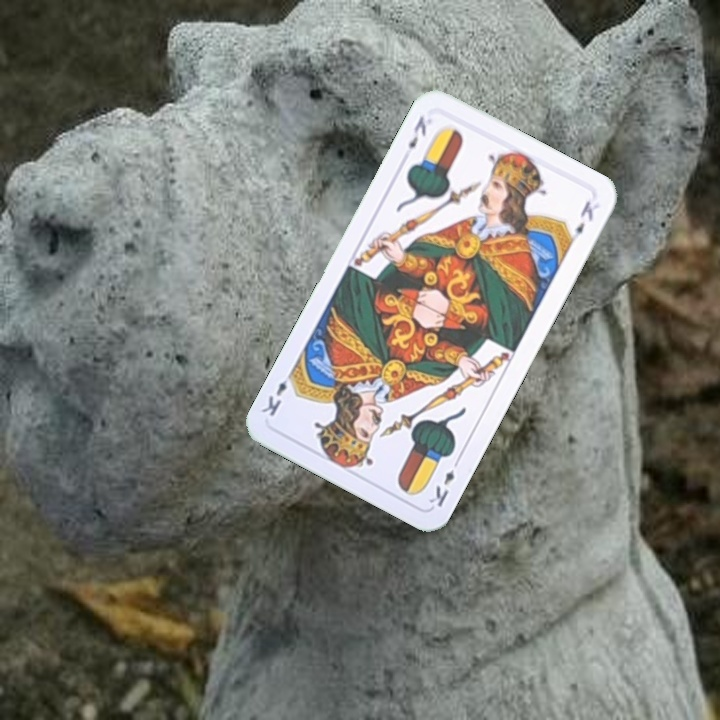EK: (425, 454, 463, 510), (404, 111, 429, 152)
